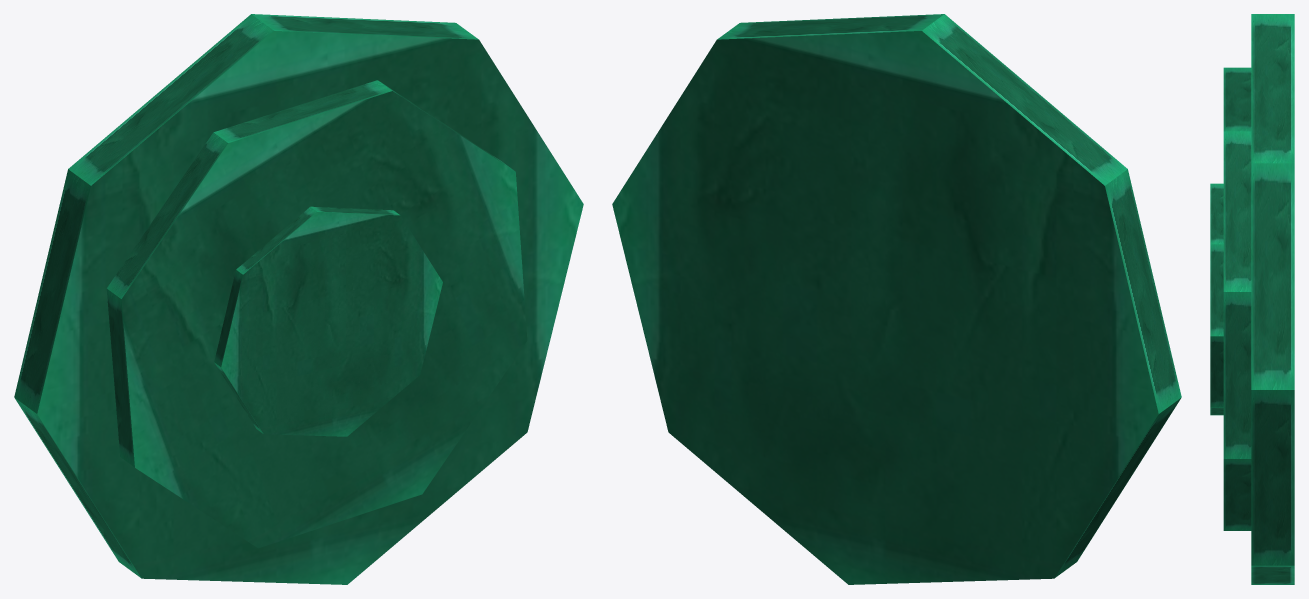
File: platform1dp_wtf.obj
The picture shows the model from 3 angles, left to right: view 1: azimuth 30°, elevation 25°; view 2: azimuth 150°, elevation 25°; view 3: azimuth 270°, elevation 25°; orthographic projection. The views are drawn at different scales.
Parts seen in each view (by area): view 1: group2; view 2: group2; view 3: group2.
Boxes of the visible parts, x1,y1,x2,y2 form: group2: (14, 14, 583, 584); group2: (612, 14, 1181, 584); group2: (1210, 14, 1294, 584).
Bounding box in the file's own units: 660 × 660 × 93.92.
